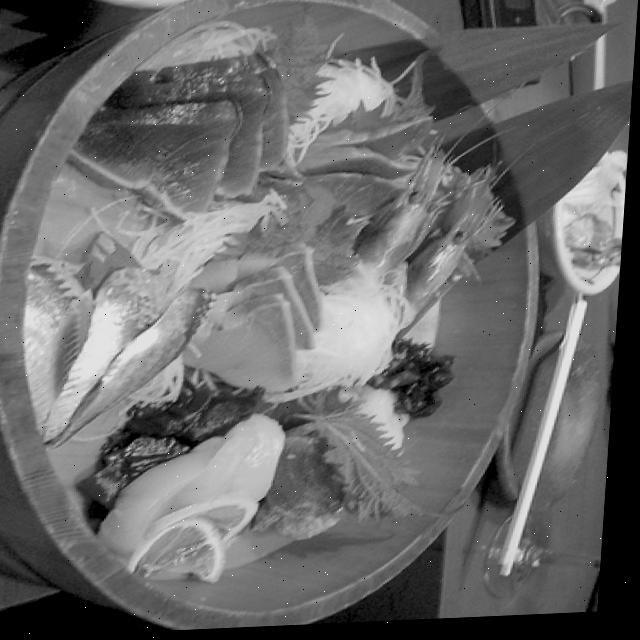刺身生食: (0, 0, 626, 640)
